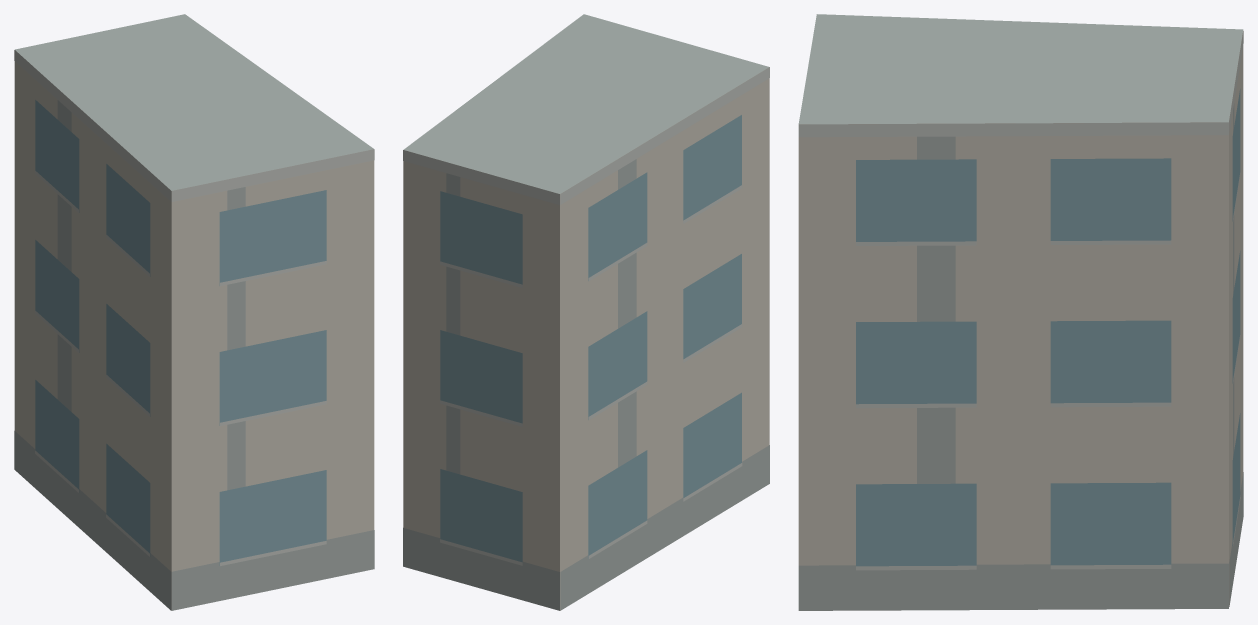
File: survey-upis-32688435.glb
3 views of the same model, side by side, from view 1: azimuth 30°, elevation 25°; view 2: azimuth 150°, elevation 25°; view 3: azimuth 270°, elevation 25° (orthographic). The views are drawn at different scales.
Visible parts, largest first — view 1: survey-upis-32688435.tmp; view 2: survey-upis-32688435.tmp; view 3: survey-upis-32688435.tmp.
Part boxes in pixels (bbox=[...]): survey-upis-32688435.tmp: bbox=[14, 14, 374, 610]; survey-upis-32688435.tmp: bbox=[403, 14, 769, 610]; survey-upis-32688435.tmp: bbox=[798, 14, 1243, 610].
Bounding box in the file's own units: 4.46 × 9.15 × 7.59.
